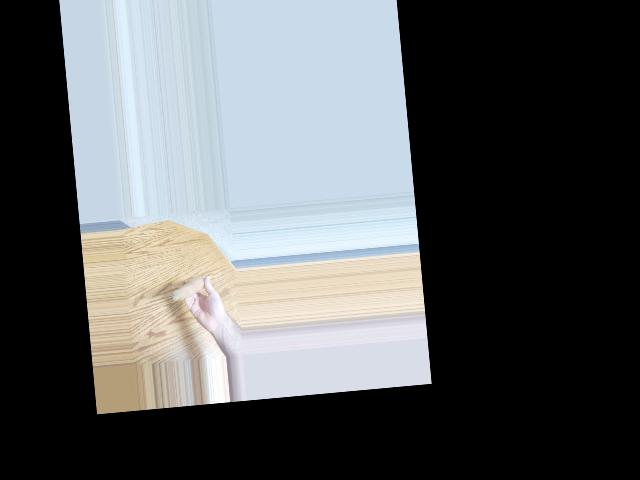sweet_potato: (170, 275, 208, 303)
